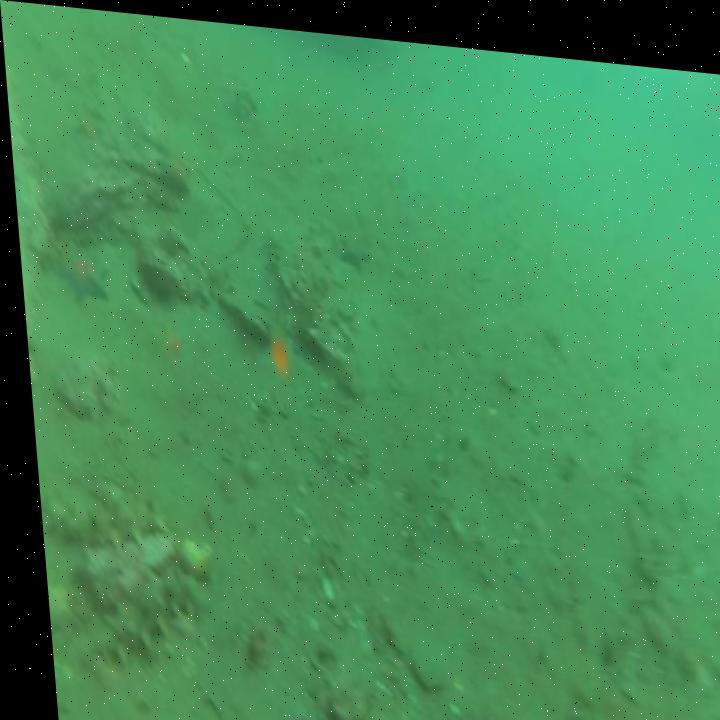holothurian: (56, 563, 199, 667), (33, 475, 152, 547)
starfish: (47, 239, 108, 308), (331, 222, 369, 269), (156, 147, 191, 192)
